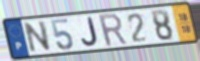2: (127, 13, 149, 44)
5: (49, 17, 75, 52)
8: (151, 8, 175, 42)
J: (80, 16, 99, 47)
N: (24, 20, 53, 55)
R: (97, 12, 130, 48)
